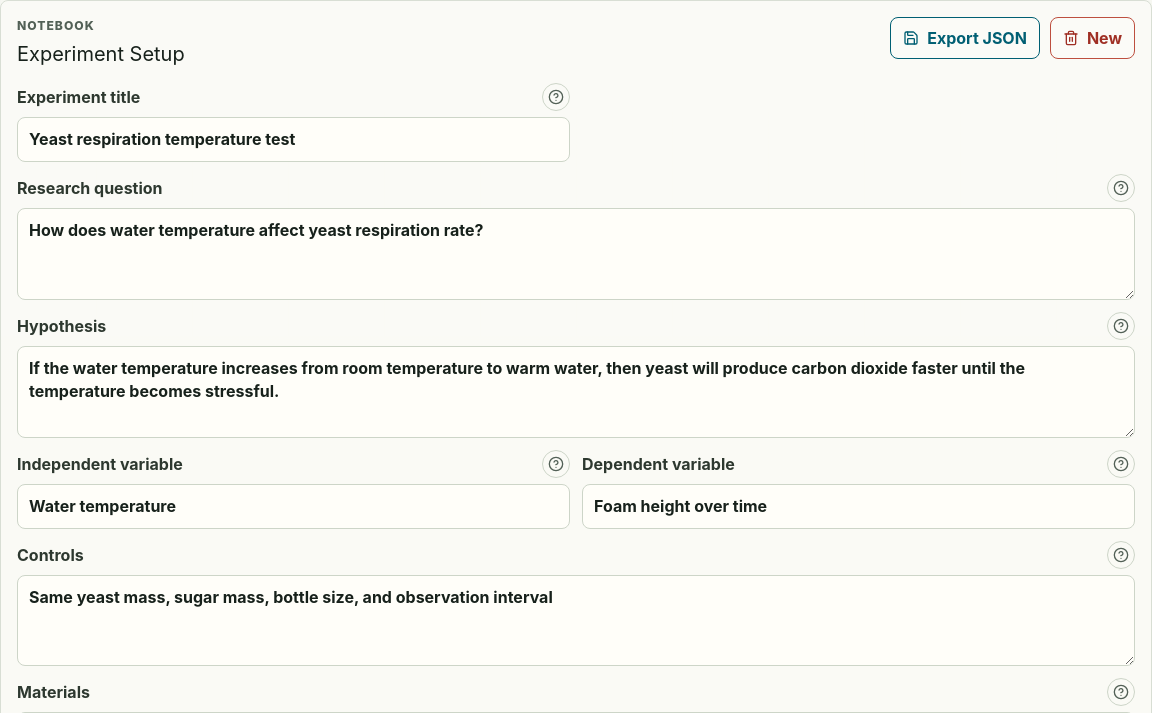
it: ExperimentSetup › hides hints by default and reveals them only when the help icon is pressed
What coordinates should you click on to do the following:
click the button named "what does \"research question\" mean"
I would click on:
 (1121, 188)
Its box is [1107,174,1135,202].
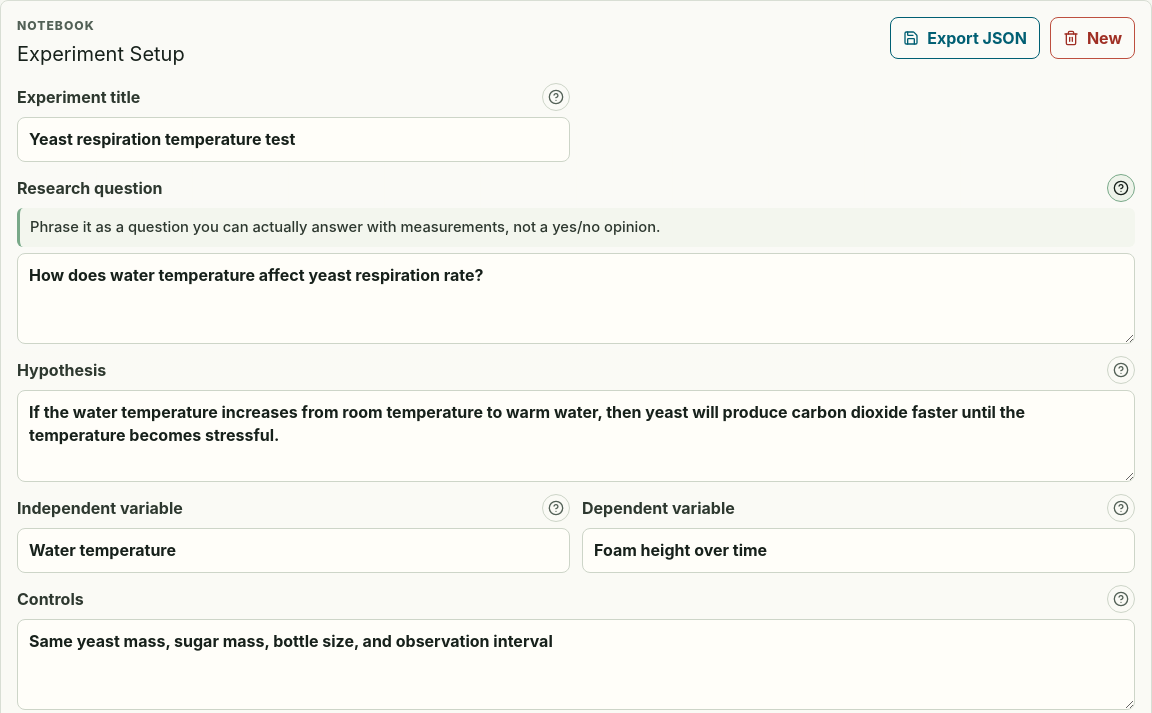
expect the text "yes/no opinion" is shown: met, box [30,218,660,236]
